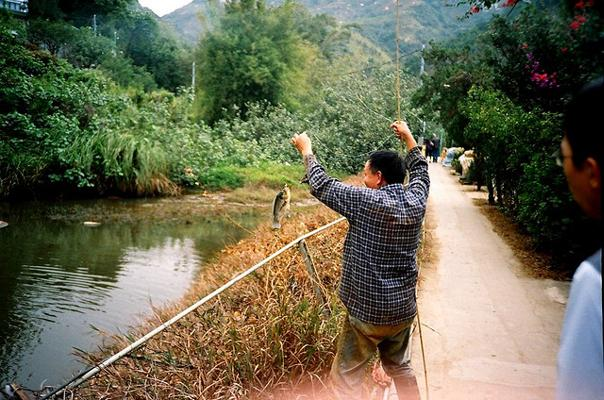person: (292, 121, 429, 400)
